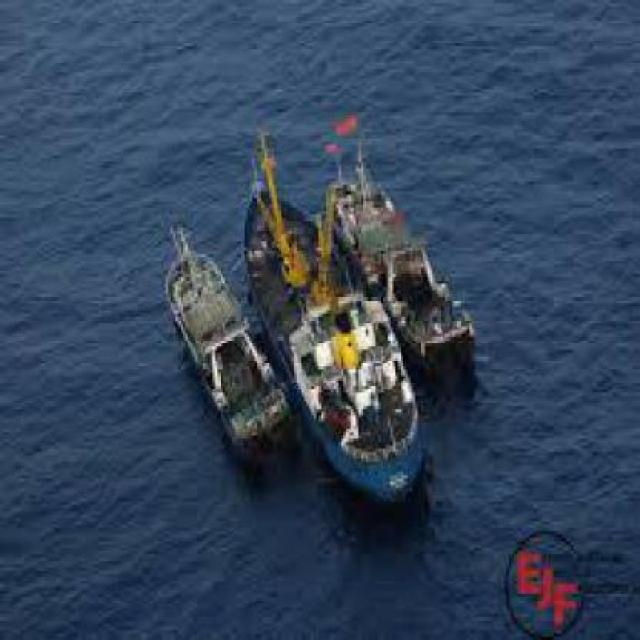fish-b: (235, 159, 441, 516), (322, 130, 498, 407), (151, 192, 300, 456)
